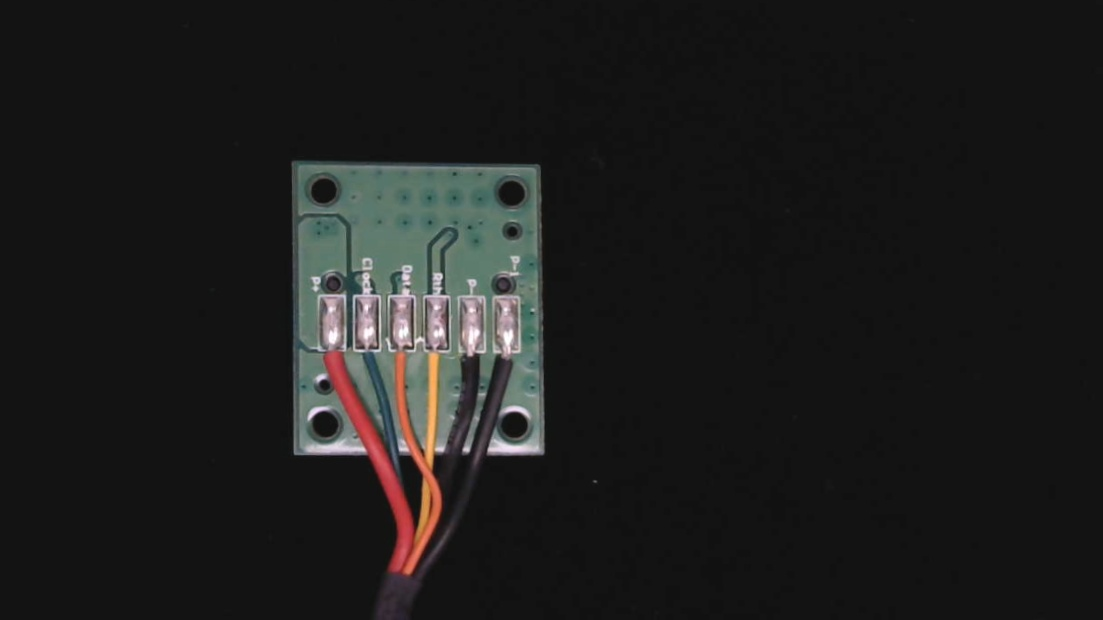Black: (458, 336, 488, 388)
Black1: (494, 336, 522, 389)
Green: (352, 335, 383, 386)
Orange: (387, 335, 417, 395)
Red: (319, 333, 349, 392)
Yellow: (424, 337, 453, 392)
